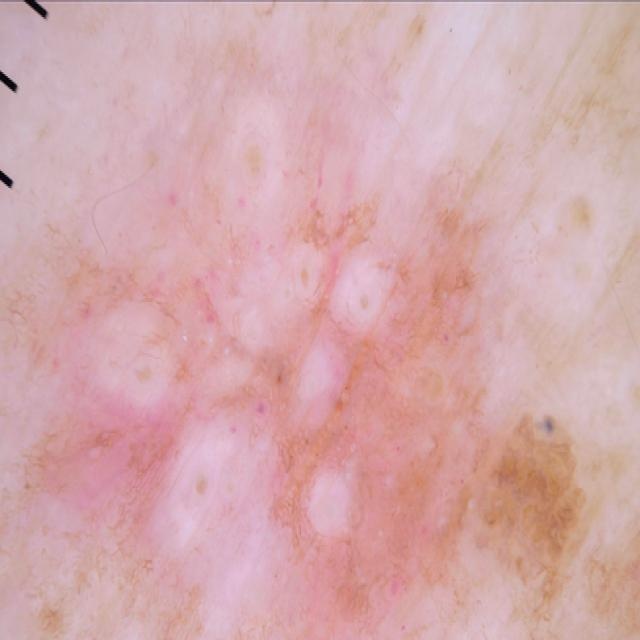Dermatofibroma: (39, 148, 598, 640)
